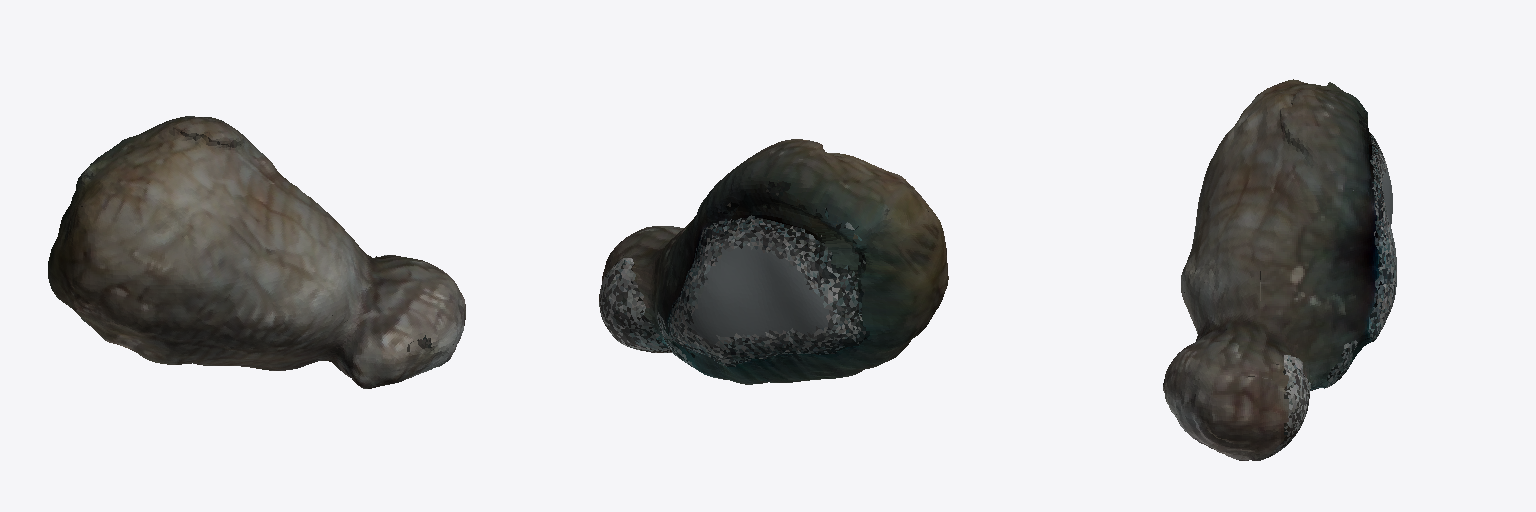
The picture shows the model from 3 angles: view 1: azimuth 30°, elevation 25°; view 2: azimuth 150°, elevation 25°; view 3: azimuth 270°, elevation 25°; orthographic projection.
Bounding box in the file's own units: 60.96 × 43.82 × 34.17.
1 materials, 1 textured.